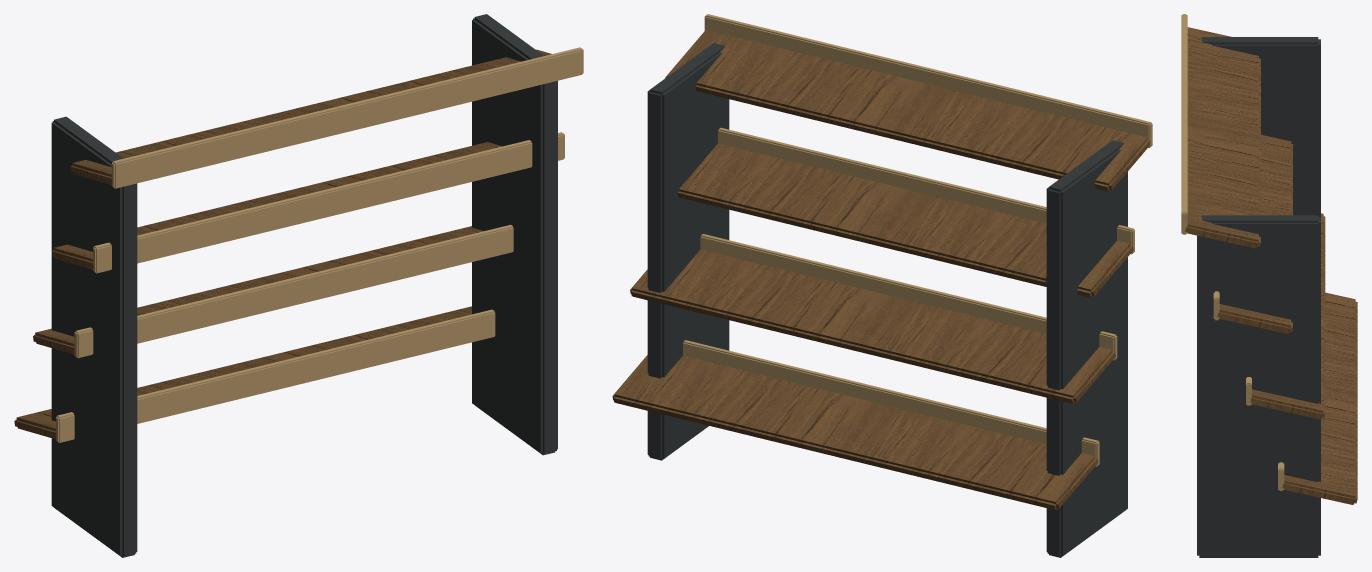
The model's file is fixture_v23_magazine_cascade.glb.
3 renders of one model, left to right at view 1: azimuth 30°, elevation 25°; view 2: azimuth 150°, elevation 25°; view 3: azimuth 270°, elevation 25°, orthographic. The views are drawn at different scales.
Visible parts, largest first — view 1: fixture_v23_magazine_cascade_Anodised_graphite, fixture_v23_magazine_cascade_V23_satin_brass, fixture_v23_magazine_cascade_CC0_Oak_veneer; view 2: fixture_v23_magazine_cascade_CC0_Oak_veneer, fixture_v23_magazine_cascade_Anodised_graphite, fixture_v23_magazine_cascade_V23_satin_brass; view 3: fixture_v23_magazine_cascade_Anodised_graphite, fixture_v23_magazine_cascade_CC0_Oak_veneer, fixture_v23_magazine_cascade_V23_satin_brass.
Part boxes in pixels (x1,y1,x2,y2): fixture_v23_magazine_cascade_Anodised_graphite: (51,14,557,557); fixture_v23_magazine_cascade_V23_satin_brass: (56,47,583,442); fixture_v23_magazine_cascade_CC0_Oak_veneer: (14,49,551,439); fixture_v23_magazine_cascade_CC0_Oak_veneer: (612,30,1150,510); fixture_v23_magazine_cascade_Anodised_graphite: (647,43,1127,557); fixture_v23_magazine_cascade_V23_satin_brass: (683,14,1152,466); fixture_v23_magazine_cascade_Anodised_graphite: (1197,37,1320,557); fixture_v23_magazine_cascade_CC0_Oak_veneer: (1185,27,1357,504); fixture_v23_magazine_cascade_V23_satin_brass: (1181,14,1284,490).
Bounding box in the file's own units: 1.9 × 1.57 × 0.7103.
3 materials, 1 textured.
